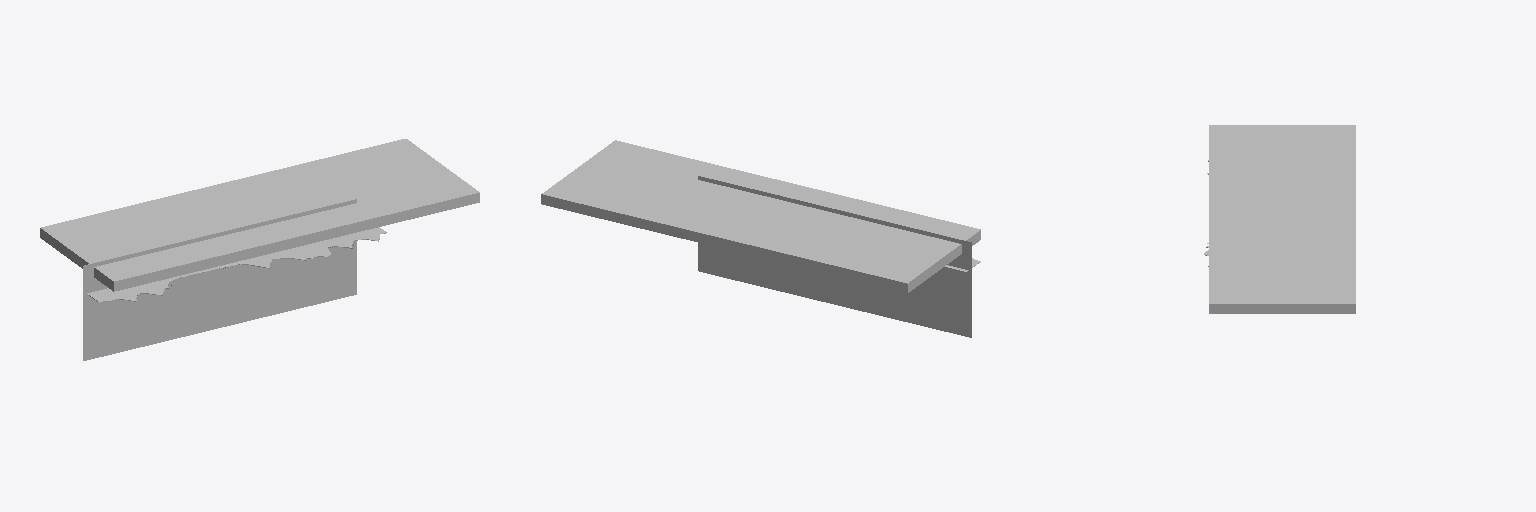
The model's file is THDMZStage1.obj.
3 renders of one model, left to right at view 1: azimuth 30°, elevation 25°; view 2: azimuth 150°, elevation 25°; view 3: azimuth 270°, elevation 25°, orthographic.
Parts seen in each view (by area): view 1: Object.16, Object.12, Object.11; view 2: Object.16, Object.12; view 3: Object.16.
Part boxes in pixels (left/top/right/bottom): Object.16: left=40, top=139, right=479, bottom=291; Object.12: left=83, top=199, right=356, bottom=360; Object.11: left=87, top=227, right=386, bottom=302; Object.16: left=541, top=140, right=980, bottom=293; Object.12: left=698, top=176, right=971, bottom=337; Object.16: left=1209, top=125, right=1355, bottom=313.
Size of the model in its own units: 3108 by 754 by 1091.